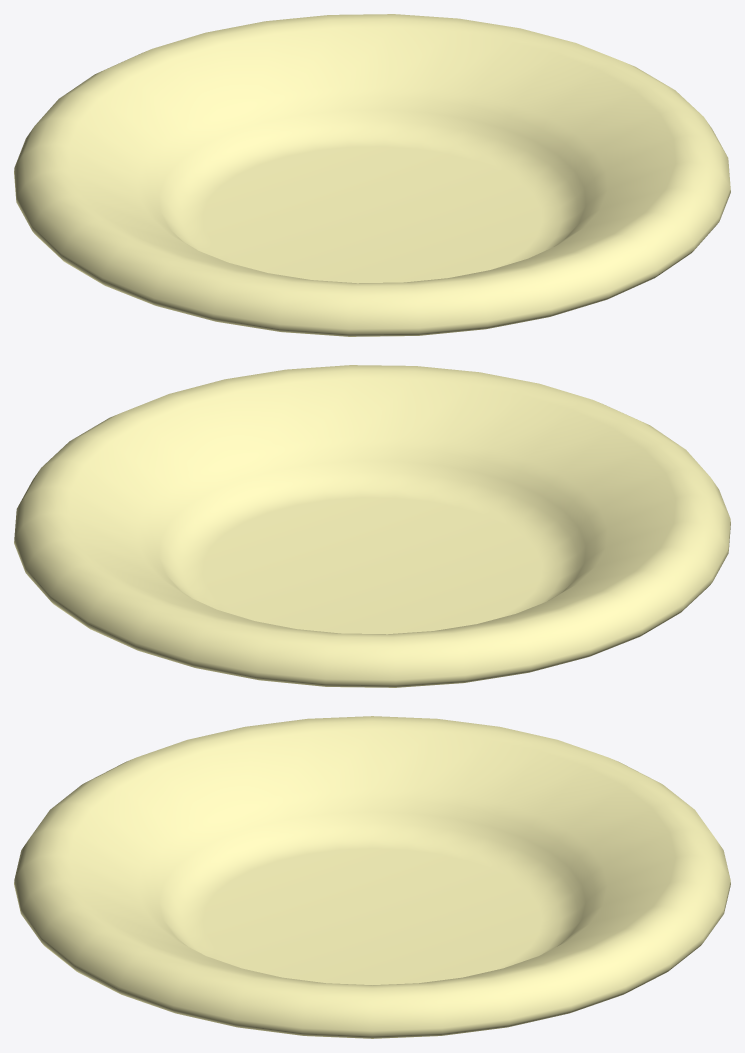
File: SM_Plate.fbx
3 views of the same model, one above another, from view 1: azimuth 30°, elevation 25°; view 2: azimuth 150°, elevation 25°; view 3: azimuth 270°, elevation 25° (orthographic).
Parts seen in each view (by area): view 1: Plate; view 2: Plate; view 3: Plate.
Boxes of the visible parts, <box> form: Plate: <box>14,14,730,336</box>; Plate: <box>14,365,730,687</box>; Plate: <box>14,716,730,1038</box>.
Bounding box in the file's own units: 163 × 23.69 × 163.
